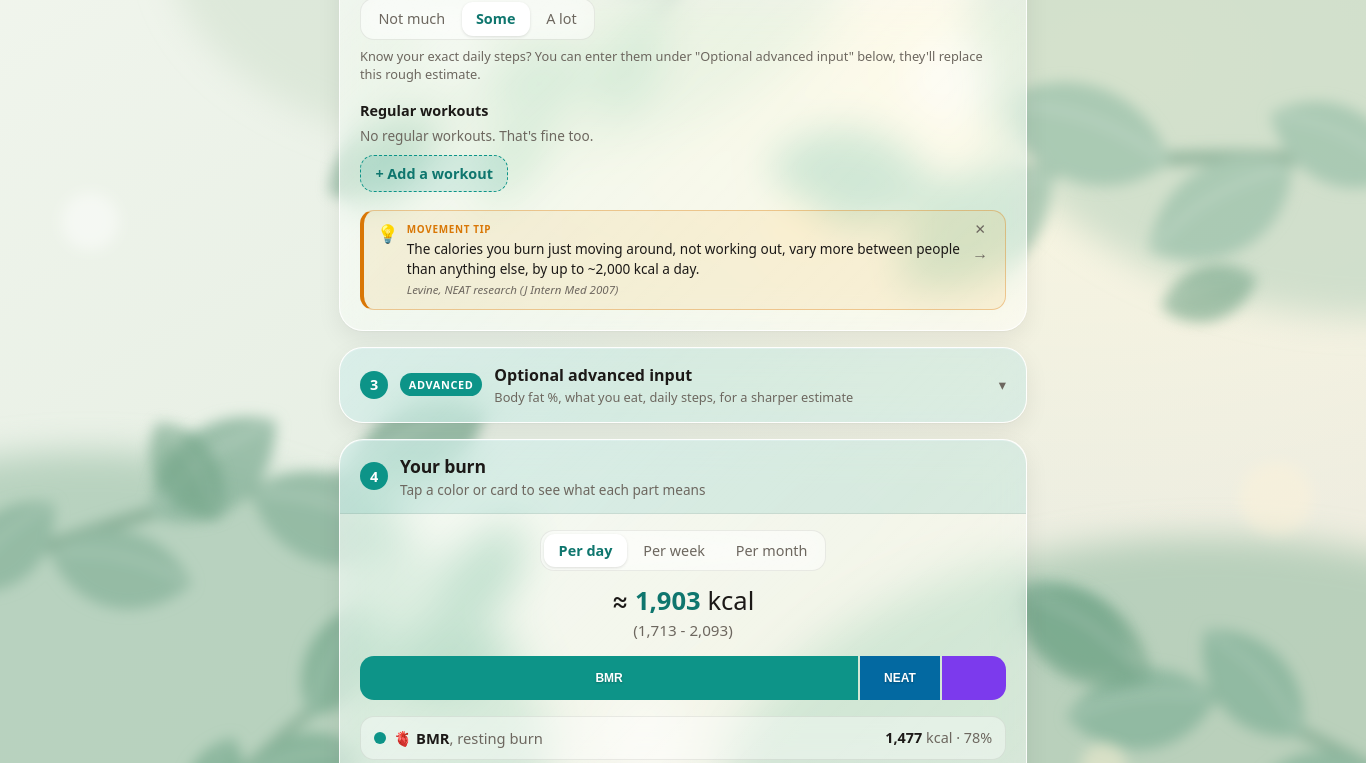
Test: <App /> end-to-end render › reveals advanced inputs when expanding the optional advanced section
(page scrolled)
Click the button "Optional advanced input" at point(683, 385), box [340,348,1026,422]
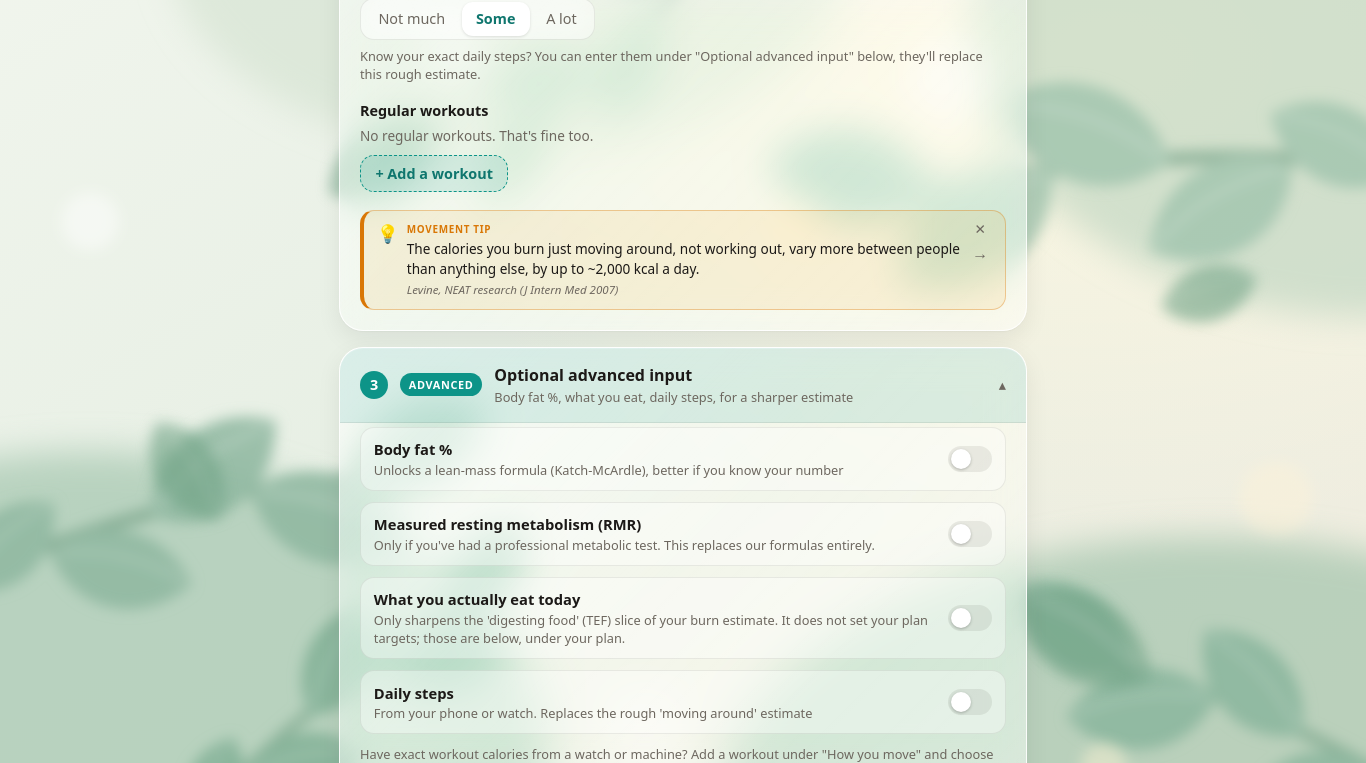
Result: the text "Body fat %" is shown at [374,439,452,459]
Result: the text "Daily steps" is shown at [374,683,454,703]
